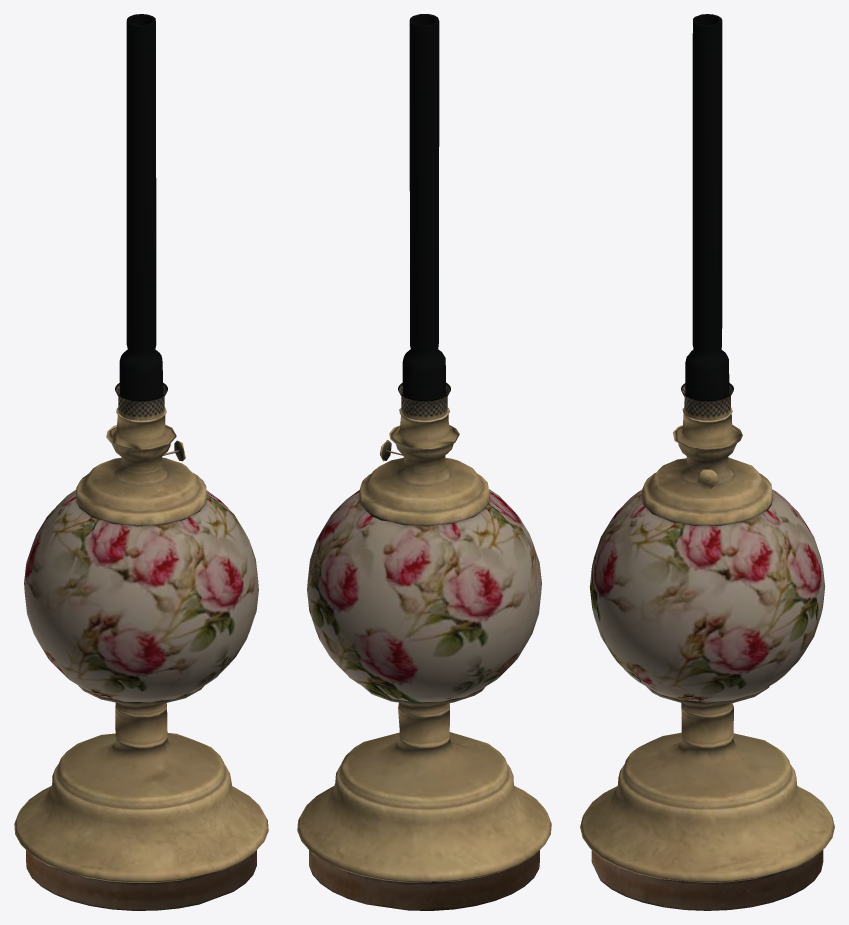
File: oillamp.glb
3 renders of one model, left to right at view 1: azimuth 30°, elevation 25°; view 2: azimuth 150°, elevation 25°; view 3: azimuth 270°, elevation 25°, orthographic.
Parts seen in each view (by area): view 1: vintage_oil_lamp, vintage_oil_lamp_glass; view 2: vintage_oil_lamp, vintage_oil_lamp_glass; view 3: vintage_oil_lamp, vintage_oil_lamp_glass.
Boxes of the visible parts, box(x1,y1,x2,y2) form: vintage_oil_lamp: box(14, 407, 268, 910); vintage_oil_lamp_glass: box(115, 14, 167, 420); vintage_oil_lamp: box(297, 407, 551, 910); vintage_oil_lamp_glass: box(398, 14, 450, 420); vintage_oil_lamp: box(580, 407, 834, 910); vintage_oil_lamp_glass: box(681, 14, 733, 420).
Size of the model in its own units: 0.22 by 0.8016 by 0.22.
Materials: 3 (3 with a texture image).
